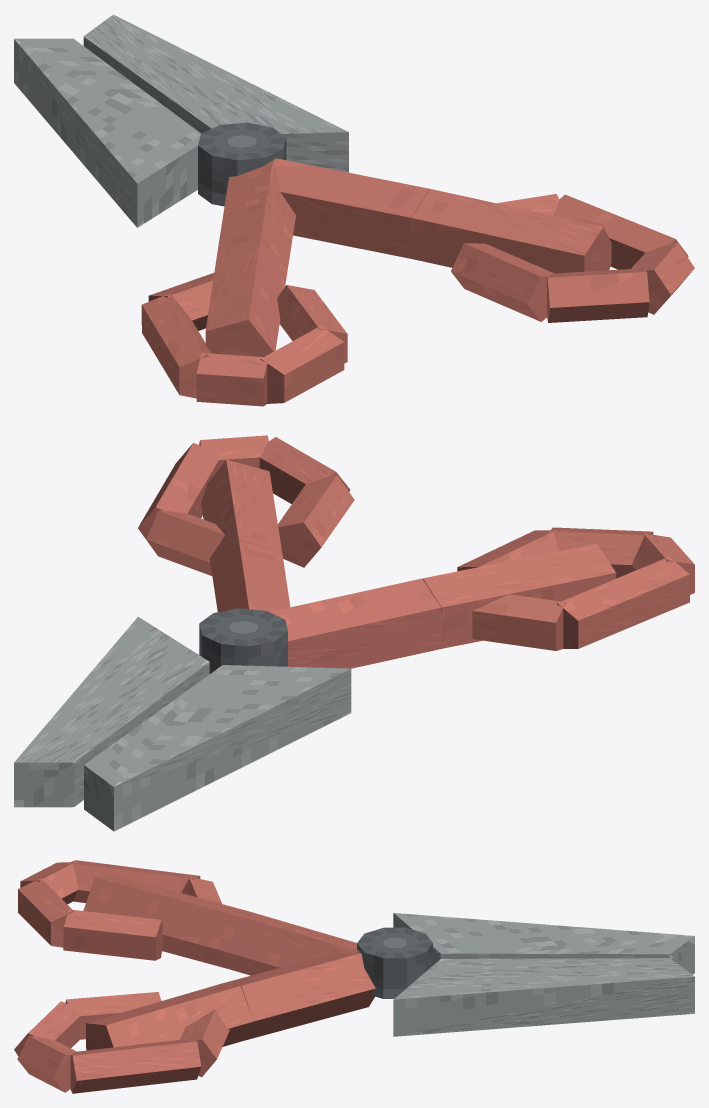
Rendered from scissors_child.glb.
3 renders of one model, top to bottom at view 1: azimuth 30°, elevation 25°; view 2: azimuth 150°, elevation 25°; view 3: azimuth 270°, elevation 25°, orthographic. The views are drawn at different scales.
Visible parts, largest first — view 1: block_blade (×2), block_handle 1 (×2), block_handle 0 (×2), block_finger loop 3 (×2), block_finger loop 1 (×2), block_finger loop 4 (×2), block_finger loop 2 (×2), block_pivot, block_finger loop 0 (×2); view 2: block_blade (×2), block_handle 0 (×2), block_handle 1 (×2), block_finger loop 1 (×2), block_finger loop 0 (×2), block_finger loop 4 (×2), block_finger loop 3 (×2), block_pivot, block_finger loop 2 (×2); view 3: block_blade (×2), block_handle 0 (×2), block_handle 1 (×2), block_finger loop 1 (×2), block_finger loop 4 (×2), block_pivot, block_finger loop 3 (×2), block_finger loop 2 (×2), block_finger loop 0 (×2).
Part boxes in pixels (x1,y1,x2,y2): block_blade (×2): [14, 14, 348, 227]; block_handle 1 (×2): [205, 189, 611, 357]; block_handle 0 (×2): [218, 158, 429, 269]; block_finger loop 3 (×2): [260, 269, 649, 403]; block_finger loop 1 (×2): [141, 194, 688, 398]; block_finger loop 4 (×2): [277, 243, 553, 363]; block_finger loop 2 (×2): [196, 242, 694, 406]; block_pivot: [198, 122, 286, 206]; block_finger loop 0 (×2): [148, 194, 559, 330]; block_blade (×2): [14, 616, 351, 831]; block_handle 0 (×2): [212, 540, 441, 668]; block_handle 1 (×2): [201, 459, 616, 648]; block_finger loop 1 (×2): [138, 443, 689, 648]; block_finger loop 0 (×2): [146, 510, 565, 650]; block_finger loop 4 (×2): [278, 475, 557, 571]; block_finger loop 3 (×2): [259, 437, 653, 578]; block_pivot: [199, 608, 287, 673]; block_finger loop 2 (×2): [199, 435, 694, 594]; block_blade (×2): [393, 913, 694, 1036]; block_handle 0 (×2): [217, 911, 375, 1041]; block_handle 1 (×2): [83, 875, 253, 1050]; block_finger loop 1 (×2): [68, 860, 201, 1093]; block_finger loop 4 (×2): [63, 909, 163, 1039]; block_pivot: [357, 927, 432, 998]; block_finger loop 3 (×2): [14, 878, 80, 1056]; block_finger loop 2 (×2): [17, 862, 78, 1092]; block_finger loop 0 (×2): [180, 876, 229, 1076].
Bounding box in the file's own units: 0.0944 × 0.0127 × 0.13.
1 material, 1 textured.
